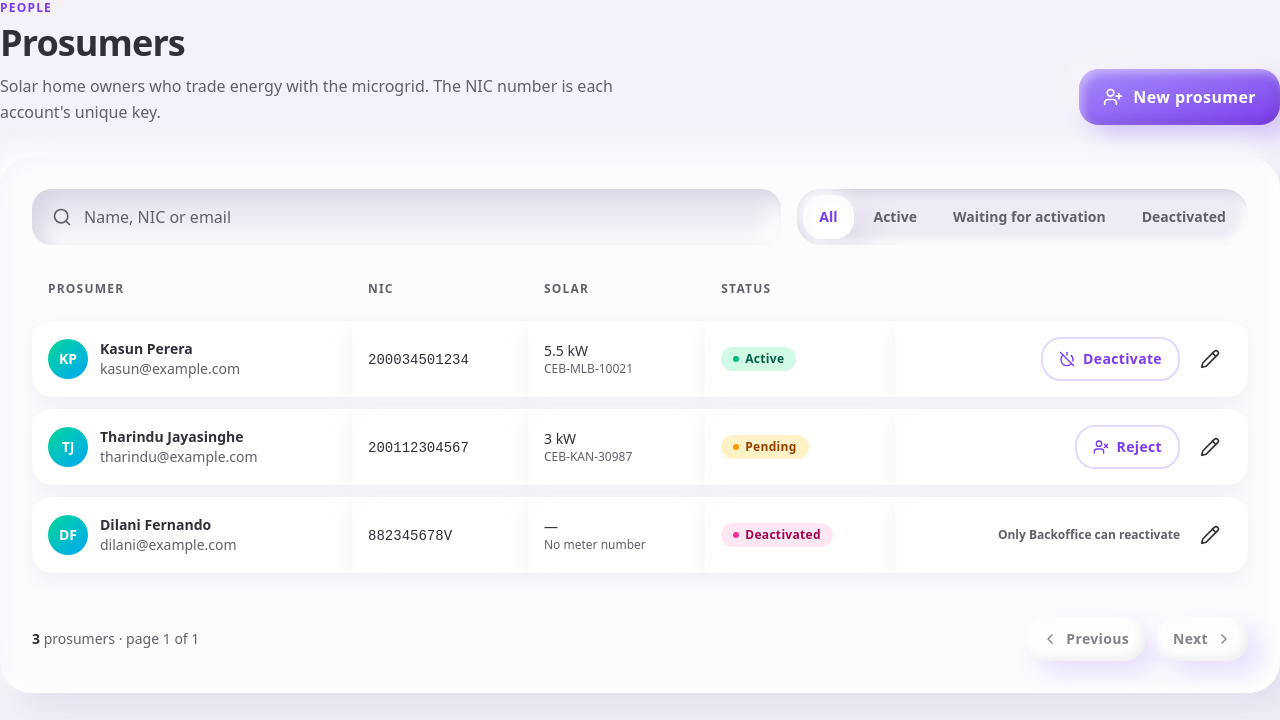
it: ProsumersPage › shows why a deactivation was refused
Expected: the link "Kasun Perera" is shown, [100,339,193,358]
Click the button "Deactivate".
click(1111, 359)  # box [1041,337,1180,381]
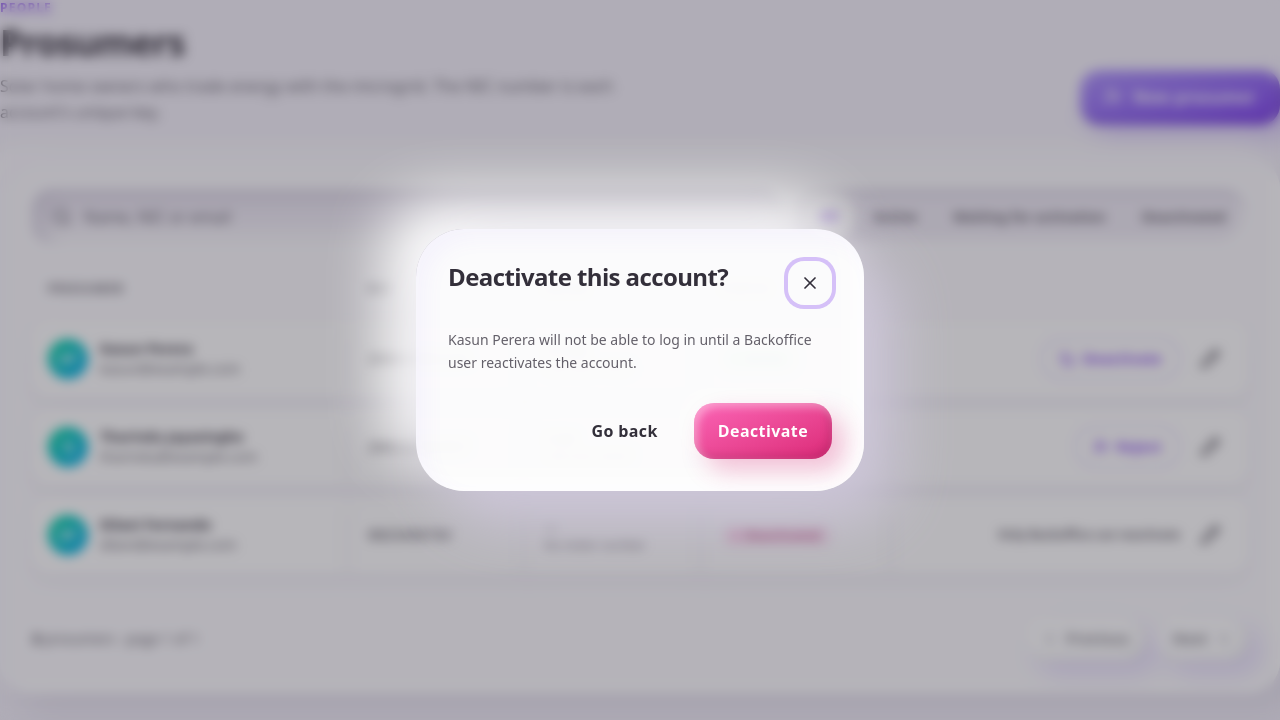
Click the button "Deactivate".
click(763, 431)  # box [694,403,832,459]
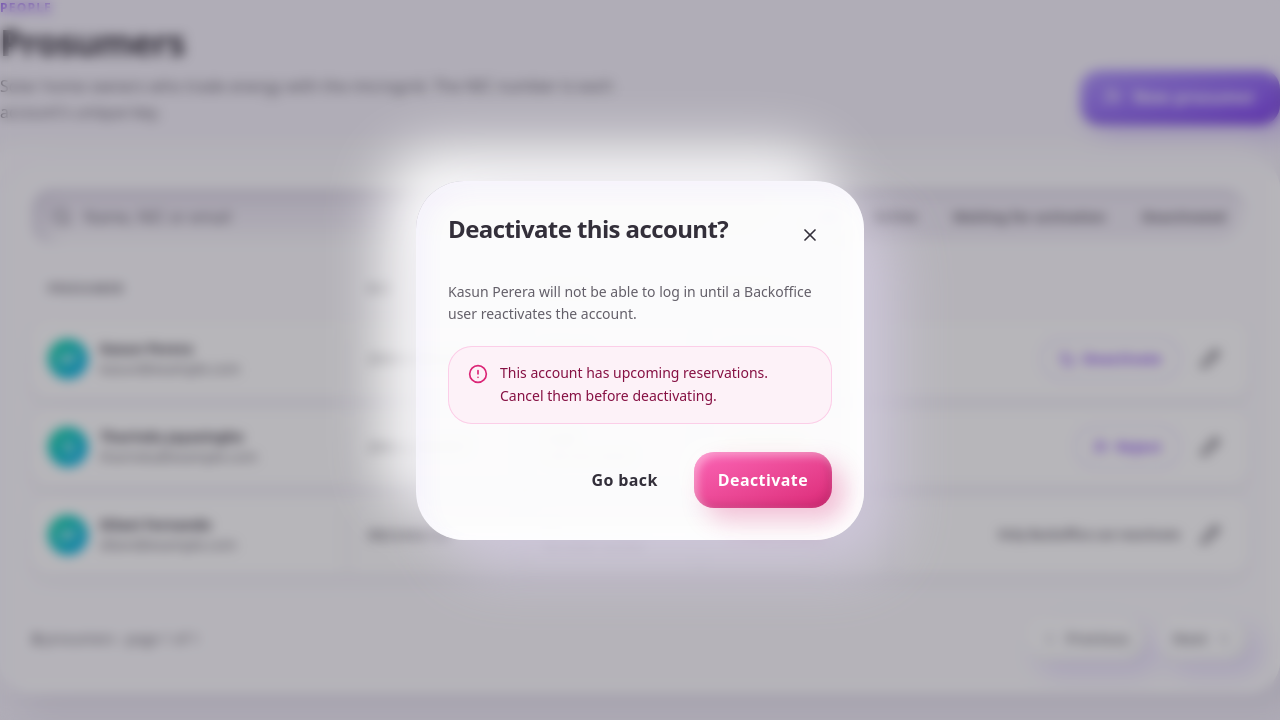
Expected: the message shows "This account has upcoming reservations.", [500,363,768,405]
